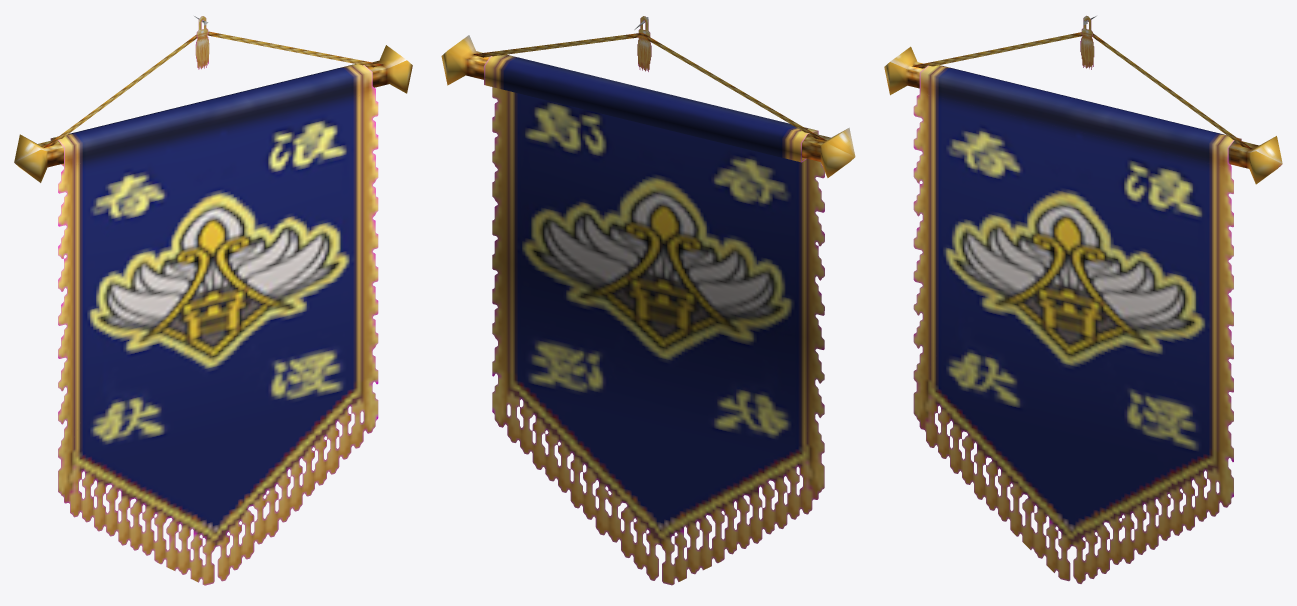
File: a_SWAsflag.glb
3 views of the same model, side by side, from view 1: azimuth 30°, elevation 25°; view 2: azimuth 150°, elevation 25°; view 3: azimuth 330°, elevation 25° (orthographic). The views are drawn at different scales.
Visible parts, largest first — view 1: a_SWAsflag; view 2: a_SWAsflag; view 3: a_SWAsflag.
Part boxes in pixels (<box>): a_SWAsflag: <box>14,16,412,585</box>; a_SWAsflag: <box>441,16,855,585</box>; a_SWAsflag: <box>884,15,1282,583</box>.
Bounding box in the file's own units: 0.4473 × 0.6062 × 0.0544.
1 material, 1 textured.
